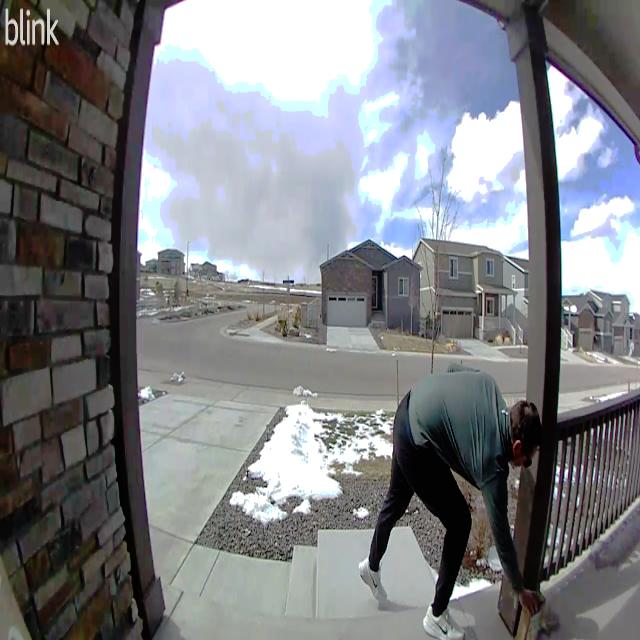Box: (519, 587, 548, 640)
